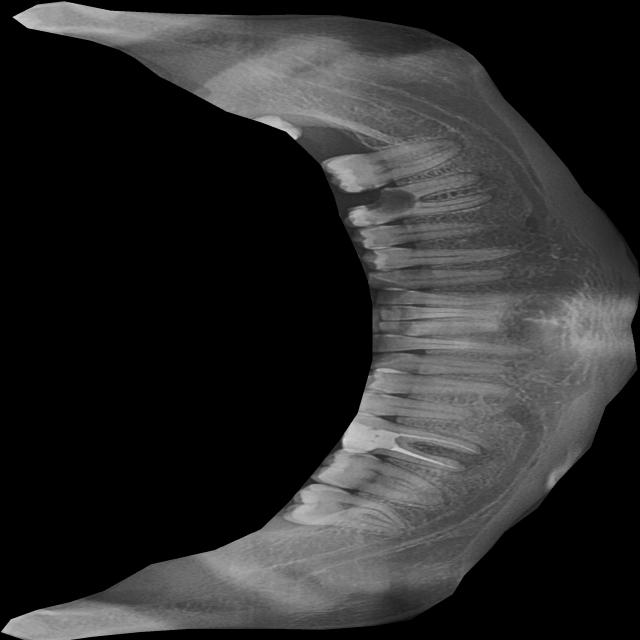mandibula: (1, 0, 640, 640)
